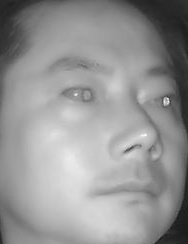eye: (57, 84, 97, 106), (139, 88, 176, 111)
mouth: (97, 174, 162, 212)
